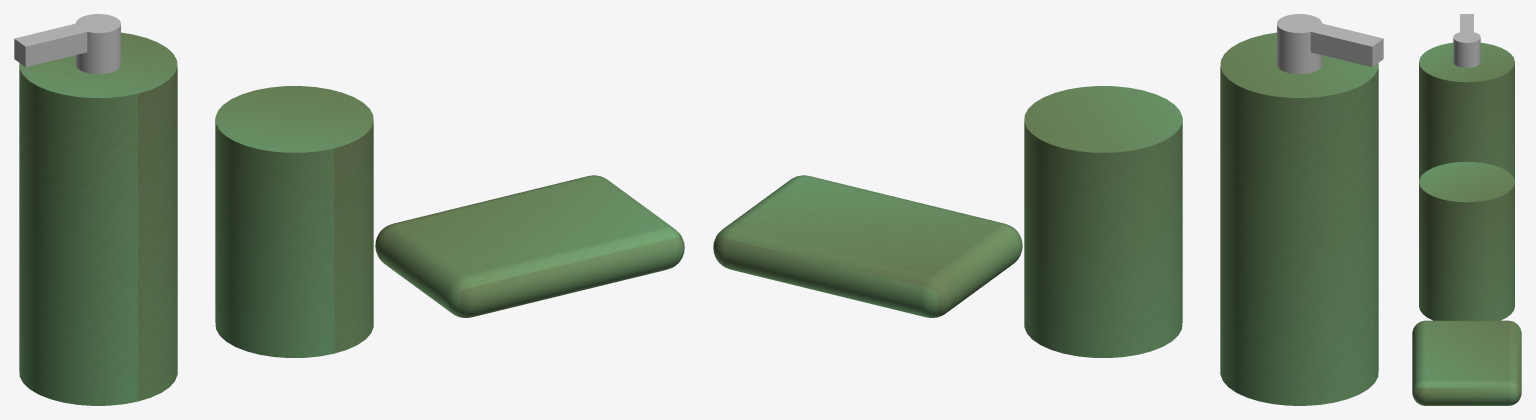
Rendered from state-default.glb.
The picture shows the model from 3 angles, left to right: view 1: azimuth 30°, elevation 25°; view 2: azimuth 150°, elevation 25°; view 3: azimuth 270°, elevation 25°; orthographic projection. The views are drawn at different scales.
Parts seen in each view (by area): view 1: assetPrim:ba520c65d11258-19c7409f996:soap-dispenser-body, assetPrim:ba520c65d11258-19c7409f996:toothbrush-holder-body, assetPrim:ba520c65d11258-19c7409f996:soap-dish-body, assetPrim:ba520c65d11258-19c7409f996:soap-dispenser-nozzle, assetPrim:ba520c65d11258-19c7409f996:soap-dispenser-pump-bas; view 2: assetPrim:ba520c65d11258-19c7409f996:soap-dispenser-body, assetPrim:ba520c65d11258-19c7409f996:toothbrush-holder-body, assetPrim:ba520c65d11258-19c7409f996:soap-dish-body, assetPrim:ba520c65d11258-19c7409f996:soap-dispenser-pump-bas, assetPrim:ba520c65d11258-19c7409f996:soap-dispenser-nozzle; view 3: assetPrim:ba520c65d11258-19c7409f996:toothbrush-holder-body, assetPrim:ba520c65d11258-19c7409f996:soap-dispenser-body, assetPrim:ba520c65d11258-19c7409f996:soap-dish-body, assetPrim:ba520c65d11258-19c7409f996:soap-dispenser-pump-bas, assetPrim:ba520c65d11258-19c7409f996:soap-dispenser-nozzle.
Boxes of the visible parts, <box> form: assetPrim:ba520c65d11258-19c7409f996:soap-dispenser-body: <box>19,32,177,405</box>; assetPrim:ba520c65d11258-19c7409f996:toothbrush-holder-body: <box>215,86,373,357</box>; assetPrim:ba520c65d11258-19c7409f996:soap-dish-body: <box>375,175,684,317</box>; assetPrim:ba520c65d11258-19c7409f996:soap-dispenser-nozzle: <box>14,21,100,67</box>; assetPrim:ba520c65d11258-19c7409f996:soap-dispenser-pump-bas: <box>75,14,120,73</box>; assetPrim:ba520c65d11258-19c7409f996:soap-dispenser-body: <box>1220,32,1378,405</box>; assetPrim:ba520c65d11258-19c7409f996:toothbrush-holder-body: <box>1024,86,1182,357</box>; assetPrim:ba520c65d11258-19c7409f996:soap-dish-body: <box>713,175,1022,317</box>; assetPrim:ba520c65d11258-19c7409f996:soap-dispenser-pump-bas: <box>1277,14,1322,73</box>; assetPrim:ba520c65d11258-19c7409f996:soap-dispenser-nozzle: <box>1295,20,1383,67</box>; assetPrim:ba520c65d11258-19c7409f996:toothbrush-holder-body: <box>1419,161,1514,320</box>; assetPrim:ba520c65d11258-19c7409f996:soap-dispenser-body: <box>1419,42,1514,180</box>; assetPrim:ba520c65d11258-19c7409f996:soap-dish-body: <box>1412,320,1521,405</box>; assetPrim:ba520c65d11258-19c7409f996:soap-dispenser-pump-bas: <box>1453,31,1480,67</box>; assetPrim:ba520c65d11258-19c7409f996:soap-dispenser-nozzle: <box>1460,14,1473,37</box>.
Bounding box in the file's own units: 0.32 × 0.17 × 0.08.
Materials: 5 (3 with a texture image).
